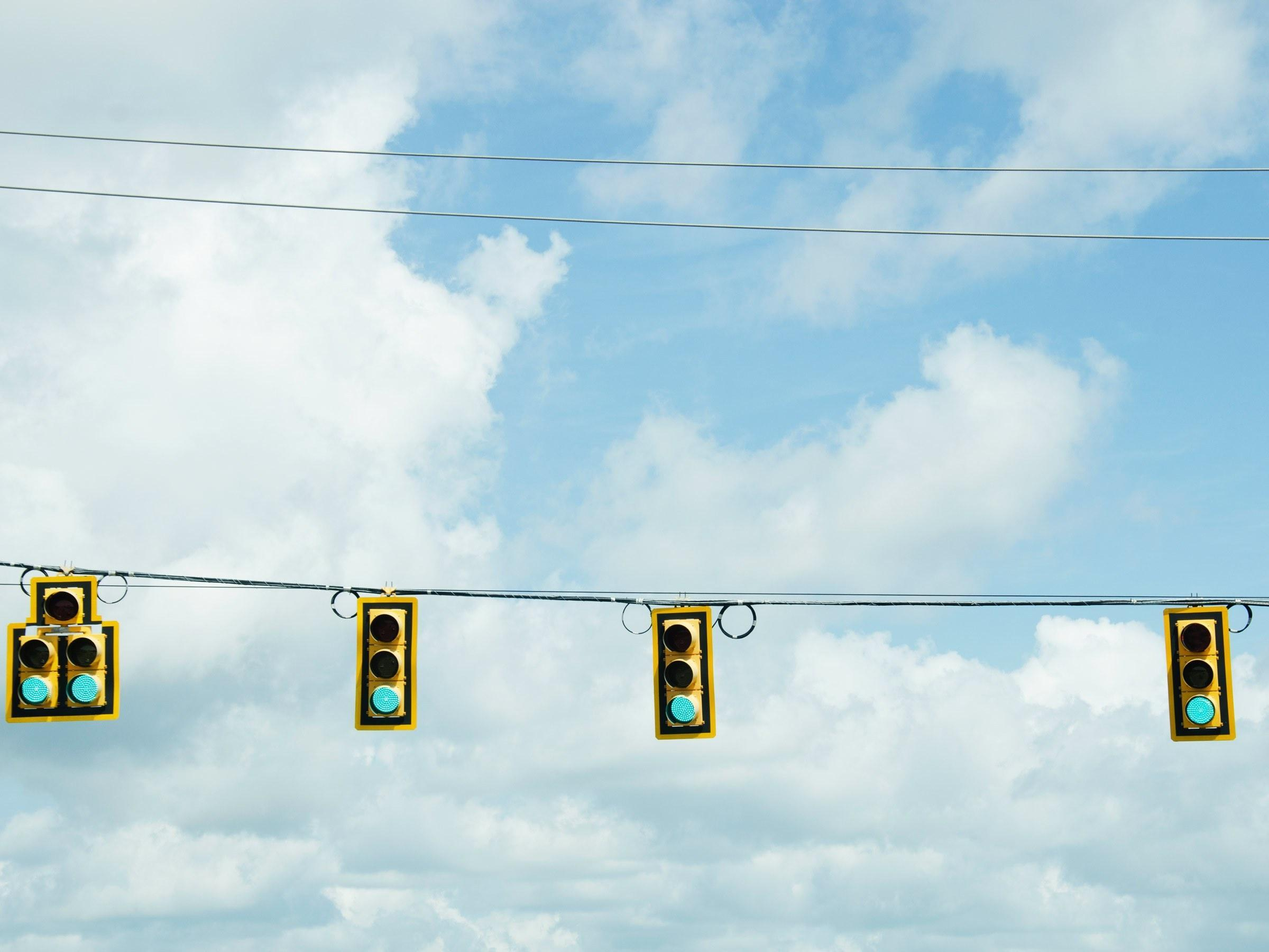green: (341, 584, 457, 746)
